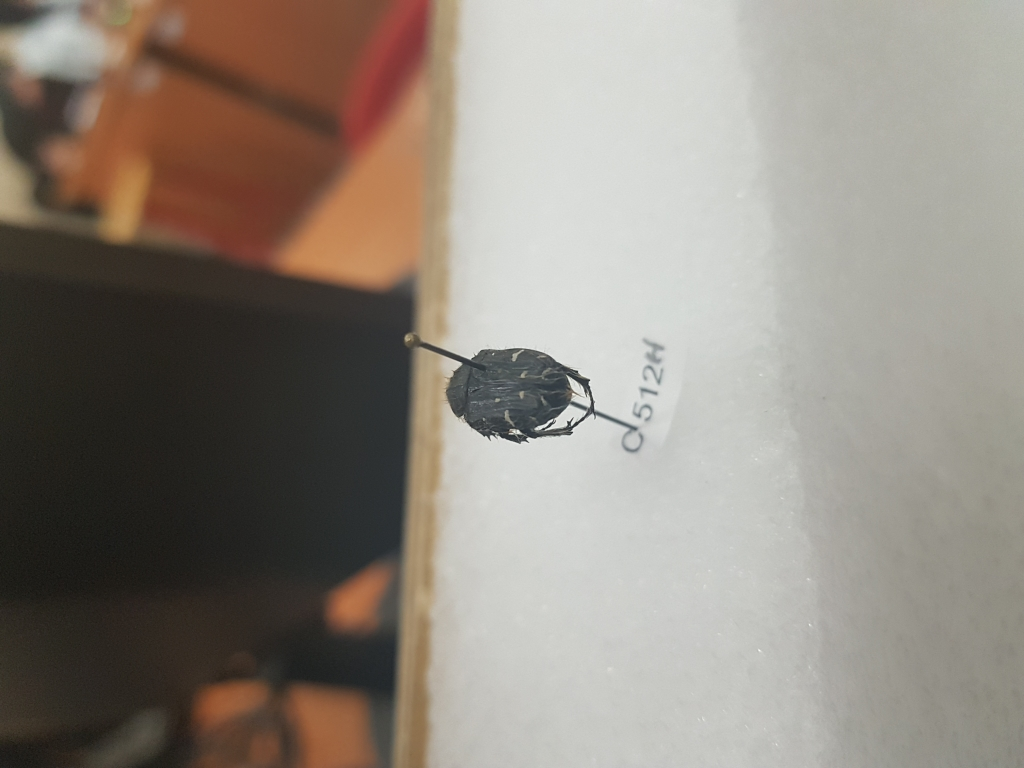Tropinota_senicula: (445, 330, 606, 445)
